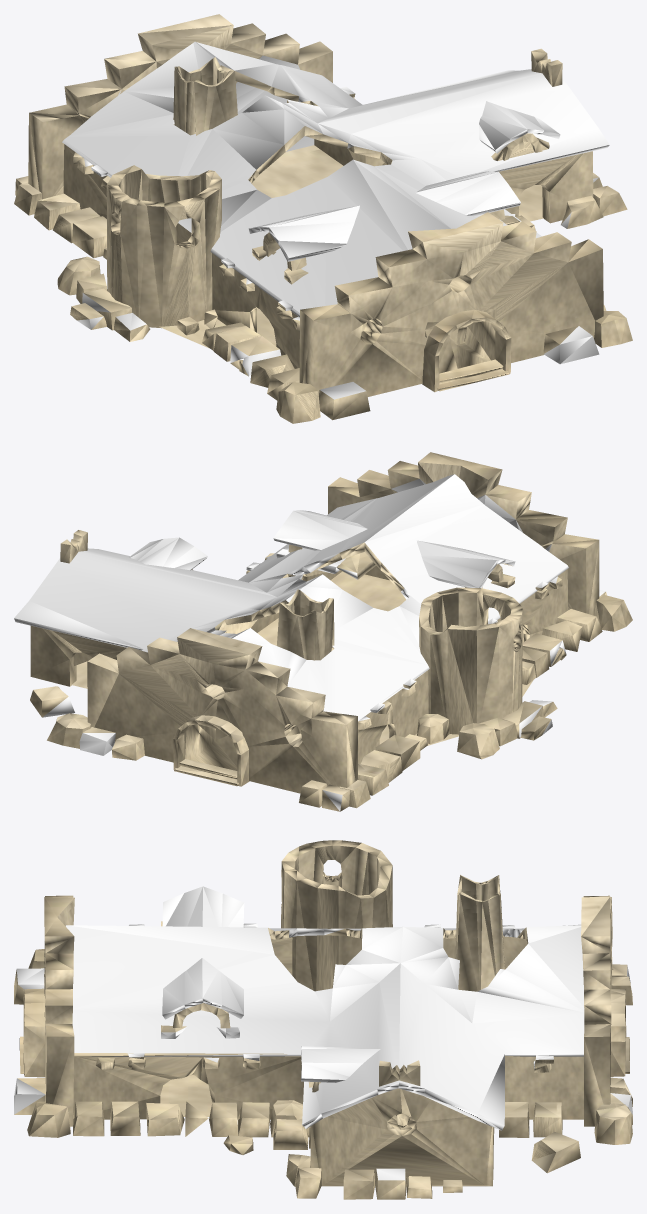
The picture shows the model from 3 angles, top to bottom: view 1: azimuth 30°, elevation 25°; view 2: azimuth 150°, elevation 25°; view 3: azimuth 270°, elevation 25°; orthographic projection. The views are drawn at different scales.
Visible parts, largest first — view 1: castle_d2.4; view 2: castle_d2.4; view 3: castle_d2.4.
Boxes of the visible parts, x1,y1,x2,y2 form: castle_d2.4: (14, 14, 632, 423); castle_d2.4: (14, 452, 632, 811); castle_d2.4: (14, 840, 632, 1199).
Size of the model in its own units: 2.85 by 0.8074 by 2.9.
2 materials, 1 textured.
